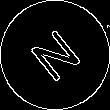N_SE: (24, 22, 86, 88)
